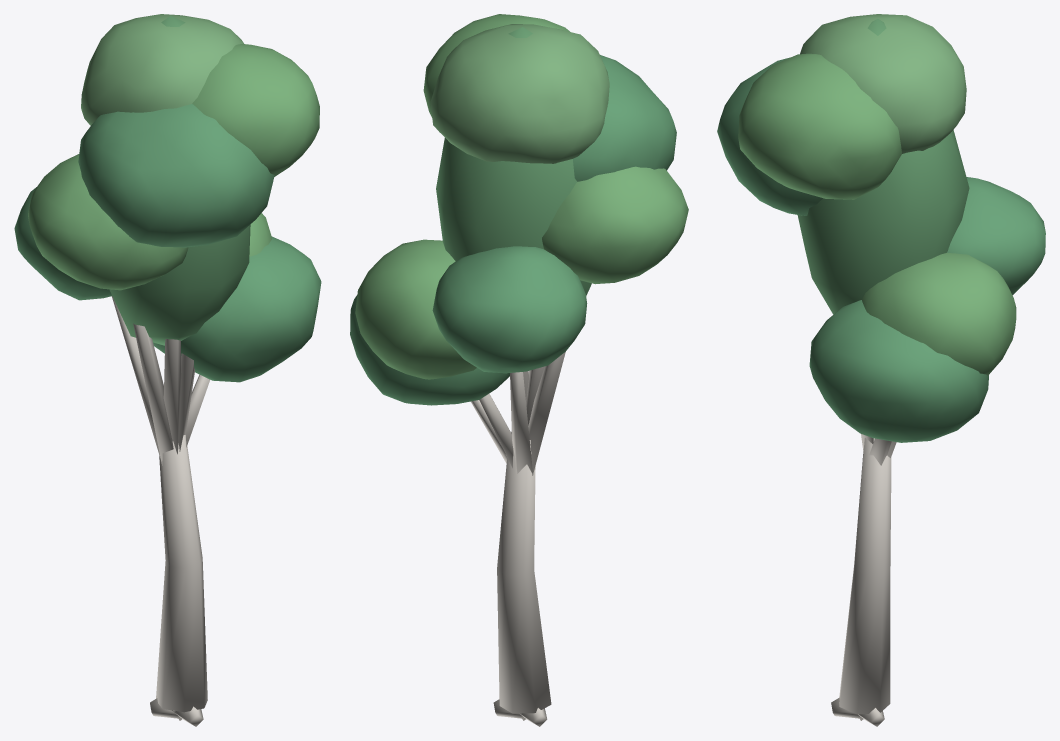
File: birch_b1.glb
3 renders of one model, left to right at view 1: azimuth 30°, elevation 25°; view 2: azimuth 150°, elevation 25°; view 3: azimuth 270°, elevation 25°, orthographic.
Parts seen in each view (by area): view 1: birch_b1; view 2: birch_b1; view 3: birch_b1.
Part boxes in pixels (x1,y1,x2,y2): birch_b1: [14, 14, 321, 726]; birch_b1: [350, 14, 688, 726]; birch_b1: [717, 14, 1045, 726].
Size of what is drawn, in the model's own units: 5.74 by 13 by 5.54.
